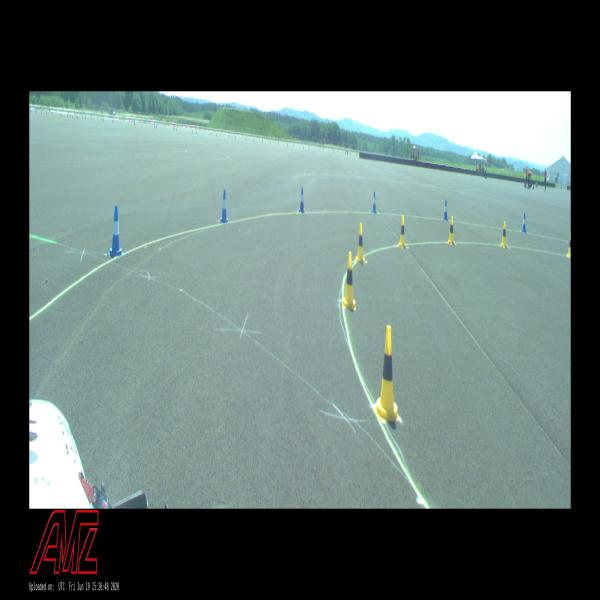blue_cone: (109, 208, 122, 255), (219, 189, 228, 222), (298, 186, 304, 212), (443, 199, 448, 220), (371, 192, 376, 212), (522, 212, 526, 232)
yellow_cone: (374, 324, 399, 421), (342, 252, 356, 310), (355, 223, 365, 264), (398, 215, 406, 249), (500, 221, 508, 247), (448, 216, 455, 244), (567, 232, 571, 257)
